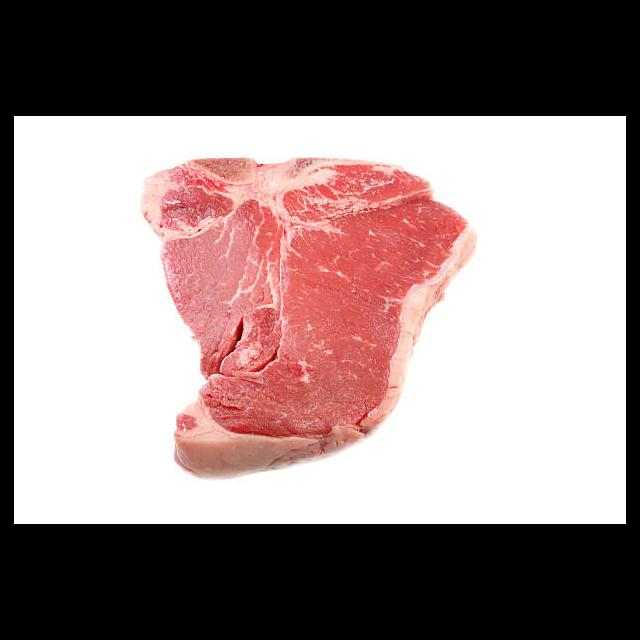beef: (140, 155, 479, 481)
